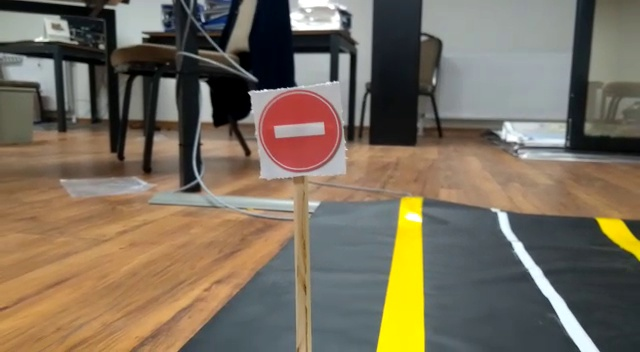girisi_olmayan_yol: (256, 88, 342, 173)
